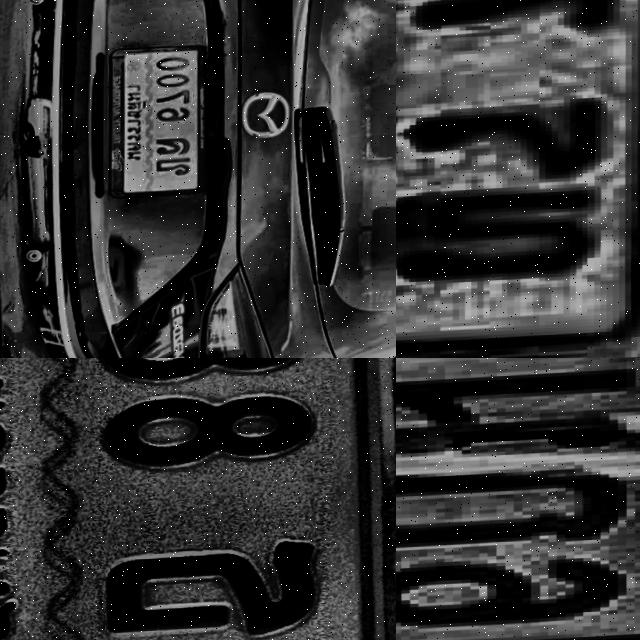license-plate: (0, 358, 396, 640), (396, 0, 640, 358), (396, 358, 640, 640), (103, 43, 215, 201)
